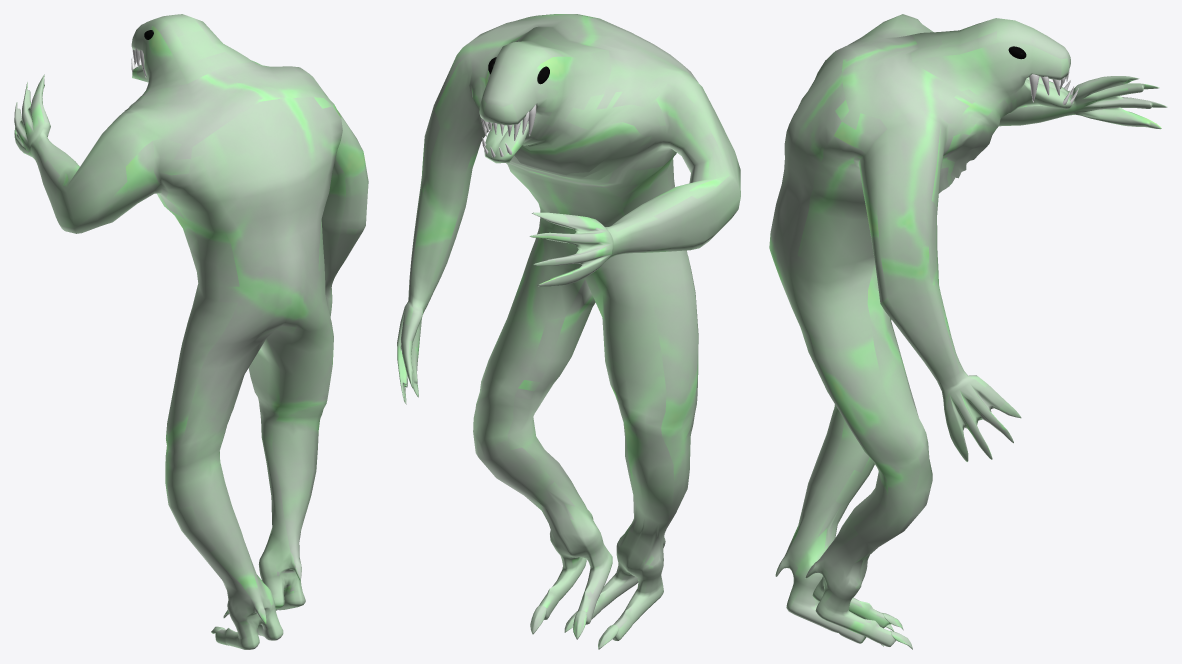
File: Berserkercorrer.0030.obj
3 views of the same model, side by side, from view 1: azimuth 30°, elevation 25°; view 2: azimuth 150°, elevation 25°; view 3: azimuth 270°, elevation 25° (orthographic). The views are drawn at different scales.
Visible parts, largest first — view 1: polySurface27; view 2: polySurface27; view 3: polySurface27.
Part boxes in pixels (box(x1,y1,x2,y2)): polySurface27: box(14, 14, 368, 649); polySurface27: box(397, 14, 740, 649); polySurface27: box(769, 14, 1167, 649).
Size of the model in its own units: 11.87 by 22.96 by 13.45.
Materials: 1 (1 with a texture image).
